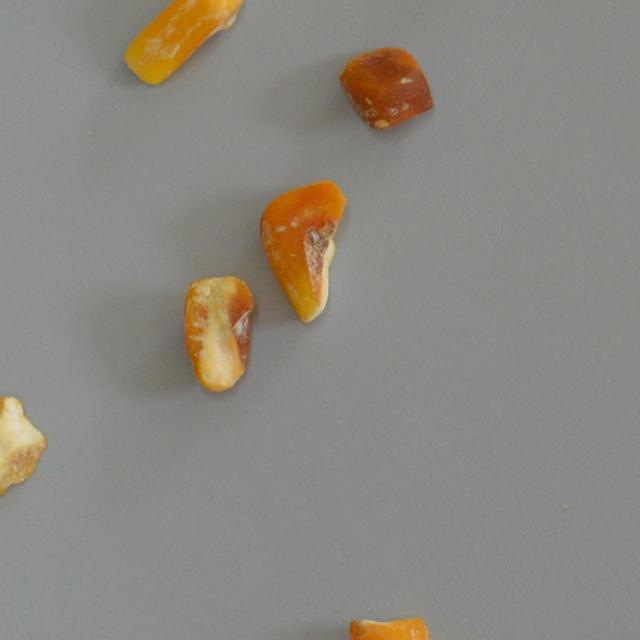dañado: (260, 179, 344, 322), (336, 46, 435, 130), (184, 276, 254, 393), (0, 394, 44, 496), (346, 614, 438, 640)
pelicula: (120, 0, 244, 85)
